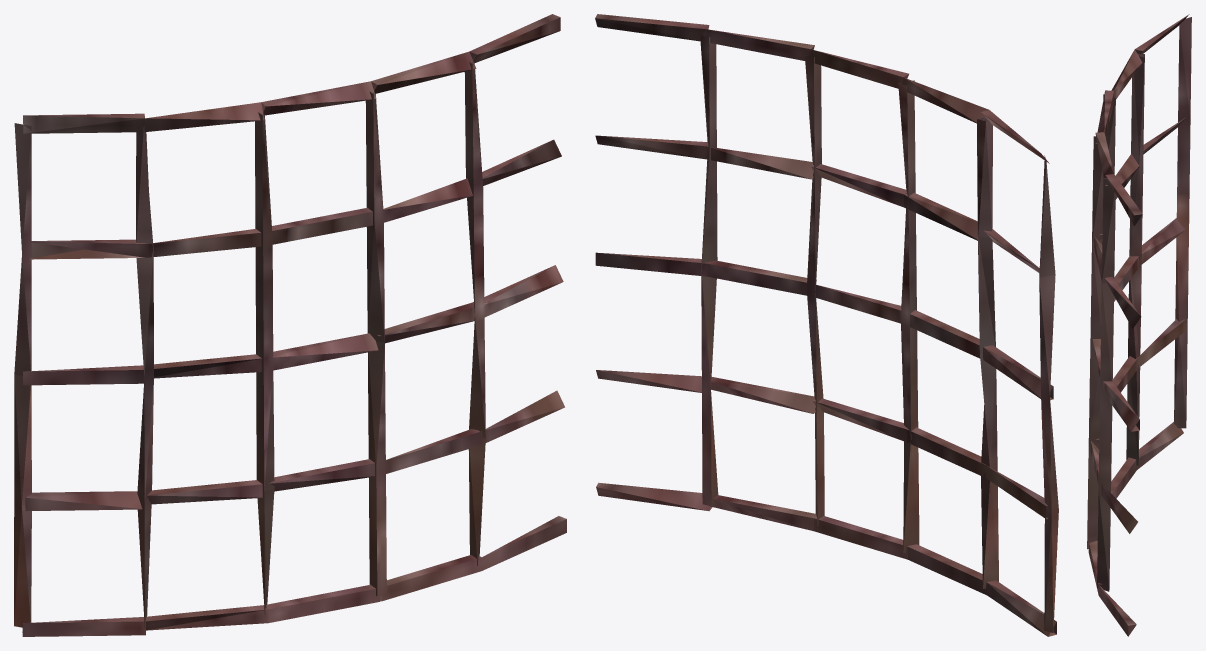
Rendered from puerta_jaula.FBX.
3 renders of one model, left to right at view 1: azimuth 30°, elevation 25°; view 2: azimuth 150°, elevation 25°; view 3: azimuth 270°, elevation 25°, orthographic. The views are drawn at different scales.
Parts seen in each view (by area): view 1: puerta_jaula; view 2: puerta_jaula; view 3: puerta_jaula.
Boxes of the visible parts, bbox=[...] form: puerta_jaula: bbox=[14, 14, 566, 636]; puerta_jaula: bbox=[595, 14, 1058, 636]; puerta_jaula: bbox=[1087, 14, 1191, 636].
Size of the model in its own units: 5.87 by 5.57 by 1.26.
